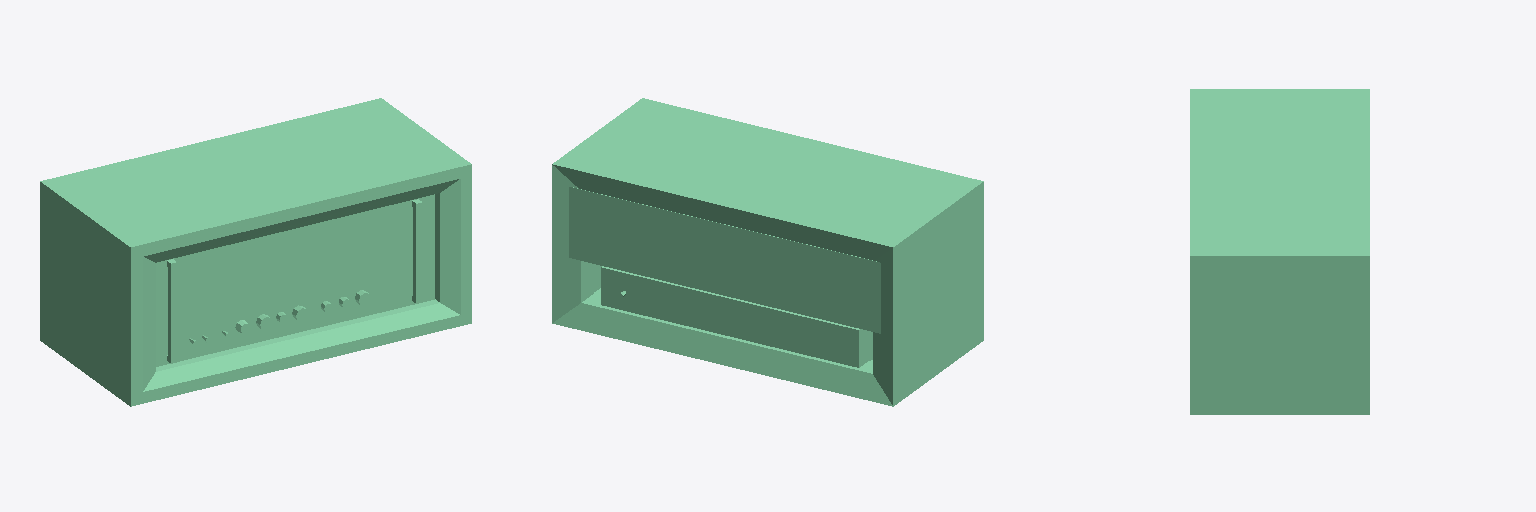
Rendered from orangelow.obj.
3 views of the same model, side by side, from view 1: azimuth 30°, elevation 25°; view 2: azimuth 150°, elevation 25°; view 3: azimuth 270°, elevation 25° (orthographic).
Visible parts, largest first — view 1: Low_poly__250_; view 2: Low_poly__250_; view 3: Low_poly__250_.
Part boxes in pixels (x1,y1,x2,y2): Low_poly__250_: (40, 98, 471, 406); Low_poly__250_: (552, 98, 983, 406); Low_poly__250_: (1190, 89, 1369, 414).
Bounding box in the file's own units: 92.61 × 43.16 × 42.5.